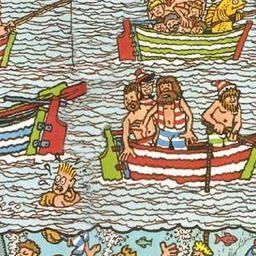waldo: (133, 69, 159, 109)
